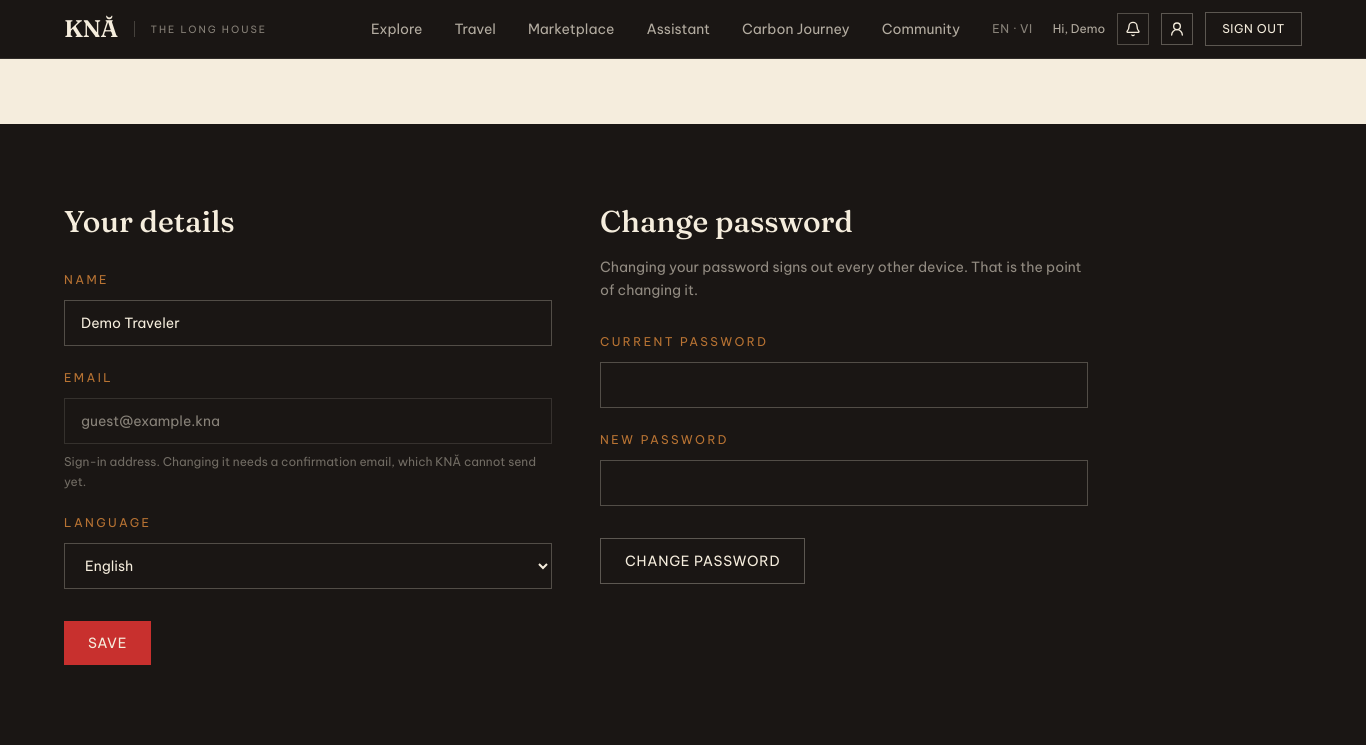
Test: Account › surfaces the server error rather than a generic one
(page scrolled)
In the password field labelled "Current password": [844, 384] box [600,362,1088,408], type "wrong"
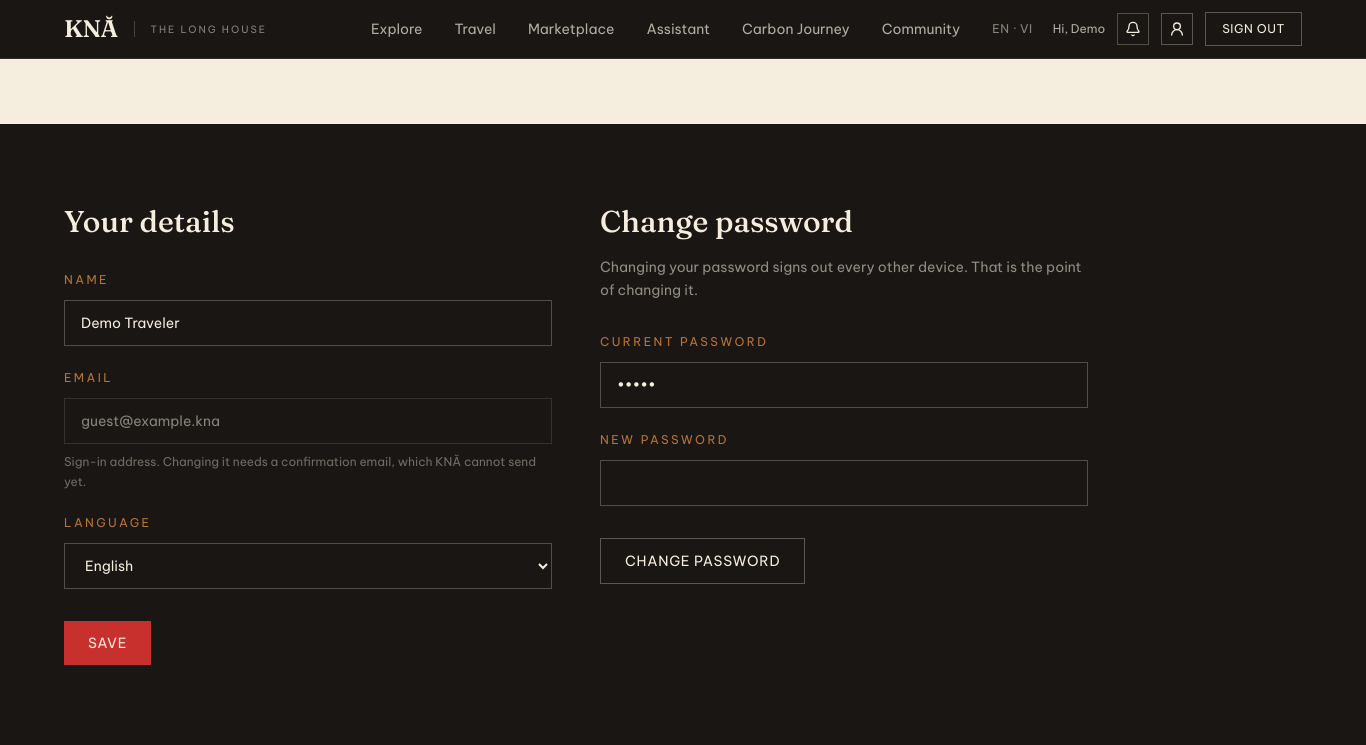
In the password field labelled "New password": [844, 482] box [600,460,1088,506], type "longenough1"
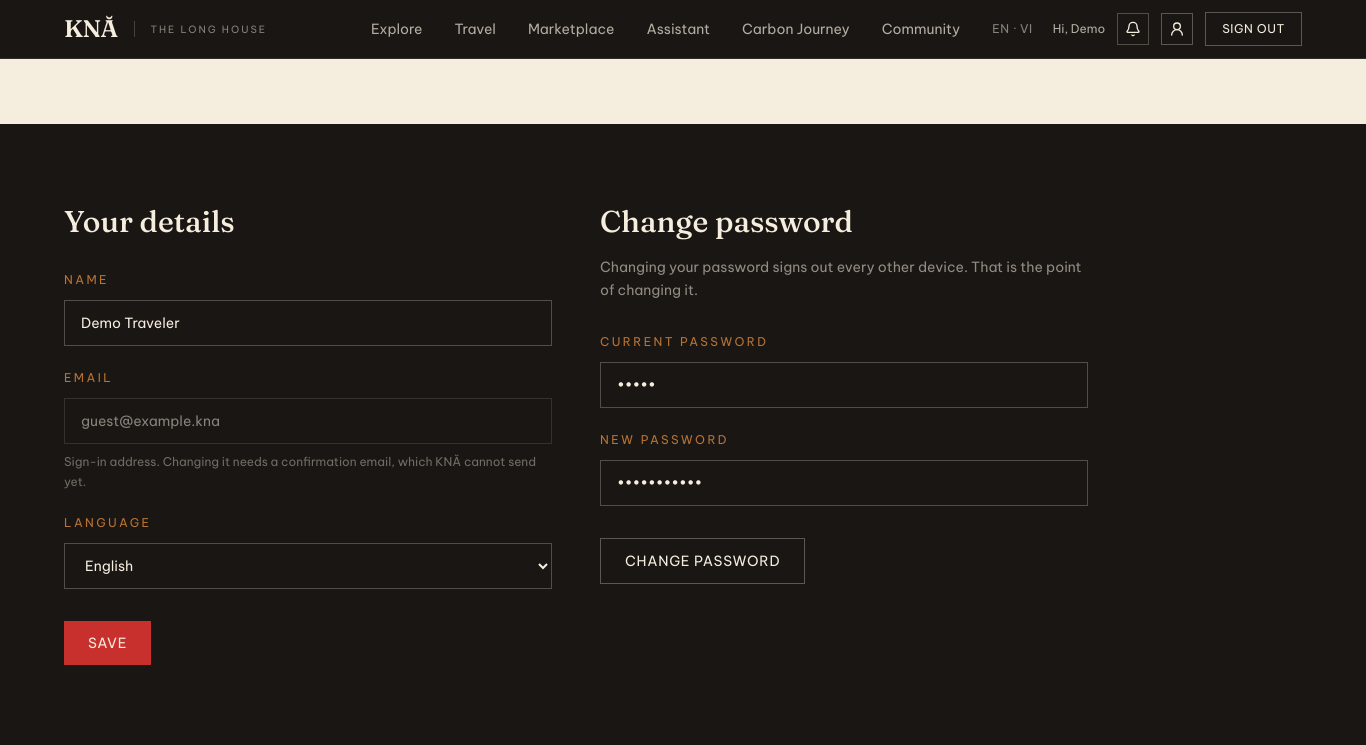
Click the button "Change password": [703, 560] box [600,538,805,584]
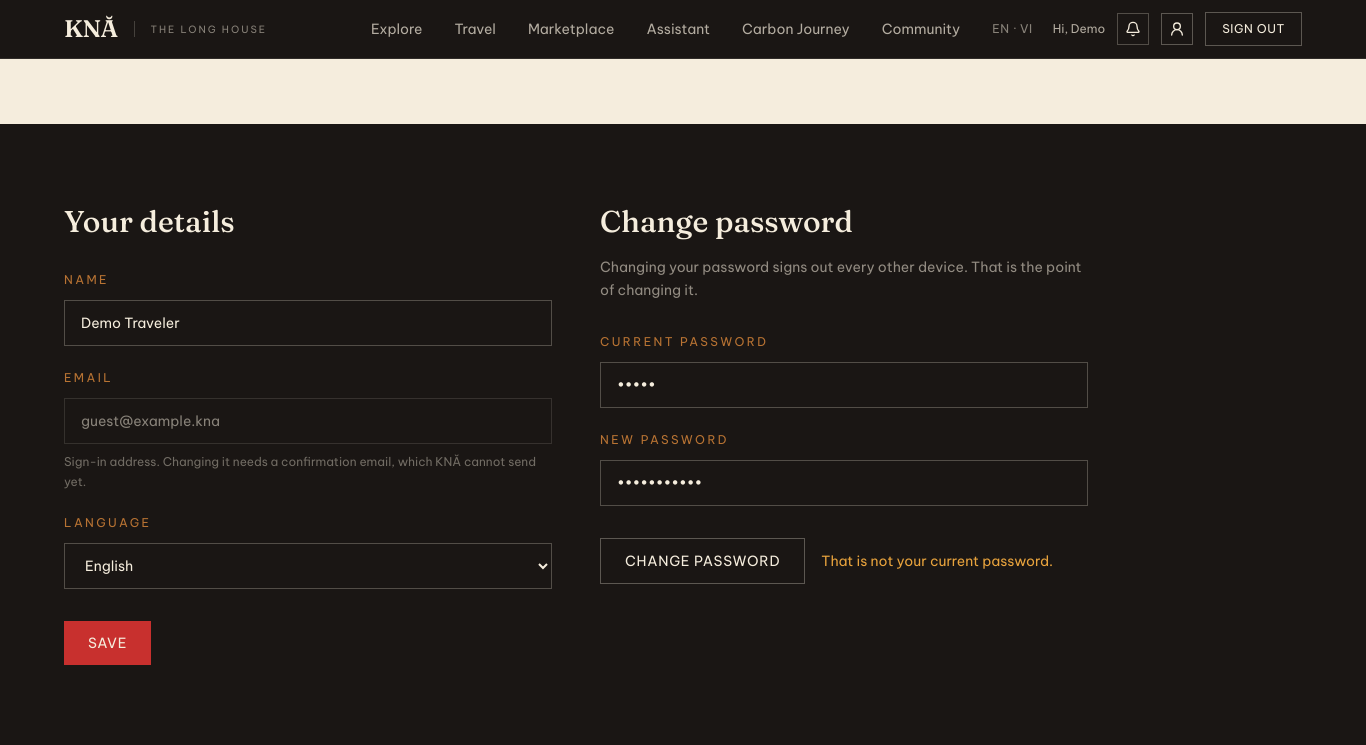
Check: the text "That is not your current password." is shown, box [821,550,1053,570]
